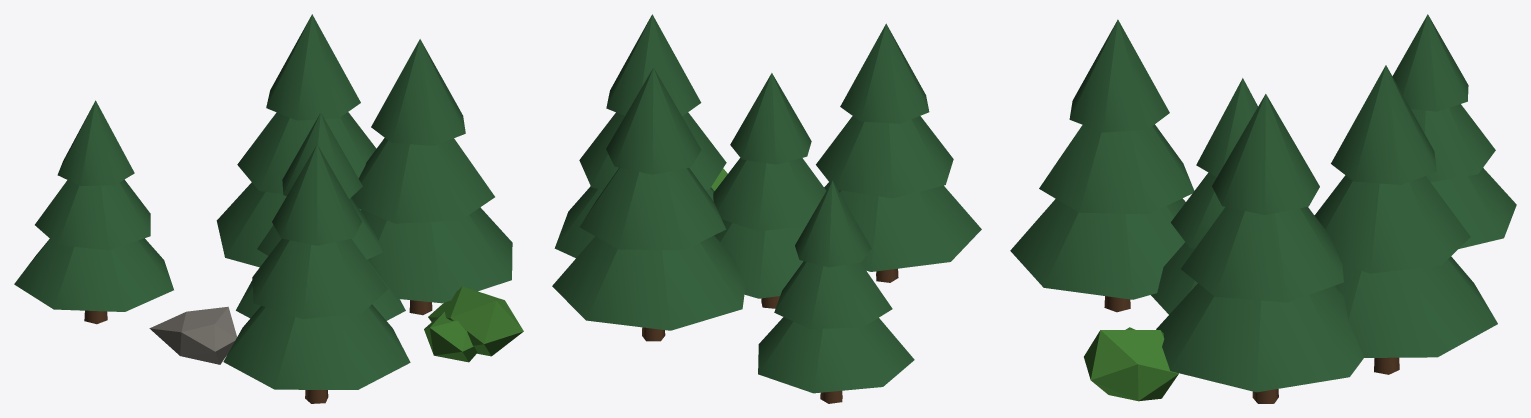
File: sawyer_pine_stand_a.glb
3 renders of one model, left to right at view 1: azimuth 30°, elevation 25°; view 2: azimuth 150°, elevation 25°; view 3: azimuth 270°, elevation 25°, orthographic. The views are drawn at different scales.
Parts seen in each view (by area): view 1: pine_0_tier0, pine_5_tier0, pine_5_tier1, pine_1_tier0, pine_0_tier1, pine_1_tier1, pine_5_tier2, pine_2_tier2, pine_0_tier2, pine_2_tier1, pine_1_tier2, pine_2_tier0 (+6 smaller); view 2: pine_2_tier0, pine_2_tier1, pine_1_tier0, pine_0_tier1, pine_0_tier0, pine_3_tier1, pine_1_tier1, pine_2_tier2, pine_0_tier2, pine_3_tier0, pine_3_tier2, pine_5_tier2 (+3 smaller); view 3: pine_5_tier0, pine_0_tier0, pine_5_tier1, pine_2_tier0, pine_2_tier1, pine_0_tier1, pine_5_tier2, pine_2_tier2, pine_0_tier2, bush_6_leaves0, pine_1_tier2, pine_1_tier1 (+4 smaller).
Boxes of the visible parts, x1,y1,x2,y2 form: pine_0_tier0: [223, 304, 410, 389]; pine_5_tier0: [361, 207, 512, 303]; pine_5_tier1: [351, 138, 494, 223]; pine_1_tier0: [14, 238, 173, 311]; pine_0_tier1: [252, 238, 387, 318]; pine_1_tier1: [35, 179, 150, 250]; pine_5_tier2: [371, 39, 465, 145]; pine_2_tier2: [266, 14, 360, 120]; pine_0_tier2: [272, 144, 362, 245]; pine_2_tier1: [237, 112, 376, 194]; pine_1_tier2: [57, 100, 134, 185]; pine_2_tier0: [216, 182, 361, 267]; pine_2_tier0: [552, 235, 745, 330]; pine_2_tier1: [580, 167, 726, 250]; pine_1_tier0: [758, 317, 914, 393]; pine_0_tier1: [816, 116, 953, 198]; pine_0_tier0: [824, 182, 981, 271]; pine_3_tier1: [713, 158, 826, 231]; pine_1_tier1: [774, 261, 892, 328]; pine_2_tier2: [606, 67, 701, 174]; pine_0_tier2: [840, 23, 929, 123]; pine_3_tier0: [714, 219, 805, 298]; pine_3_tier2: [730, 73, 811, 164]; pine_5_tier2: [606, 14, 701, 116]; pine_5_tier0: [1156, 283, 1364, 392]; pine_0_tier0: [1010, 198, 1185, 299]; pine_5_tier1: [1181, 206, 1343, 302]; pine_2_tier0: [1334, 256, 1497, 357]; pine_2_tier1: [1314, 175, 1470, 273]; pine_0_tier1: [1039, 124, 1194, 214]; pine_5_tier2: [1212, 94, 1319, 214]; pine_2_tier2: [1331, 65, 1436, 184]; pine_0_tier2: [1069, 19, 1169, 132]; bush_6_leaves0: [1084, 330, 1178, 401]; pine_1_tier2: [1392, 14, 1468, 111]; pine_1_tier1: [1411, 104, 1495, 182].
Size of the model in its own units: 4.57 by 3.02 by 4.38.
